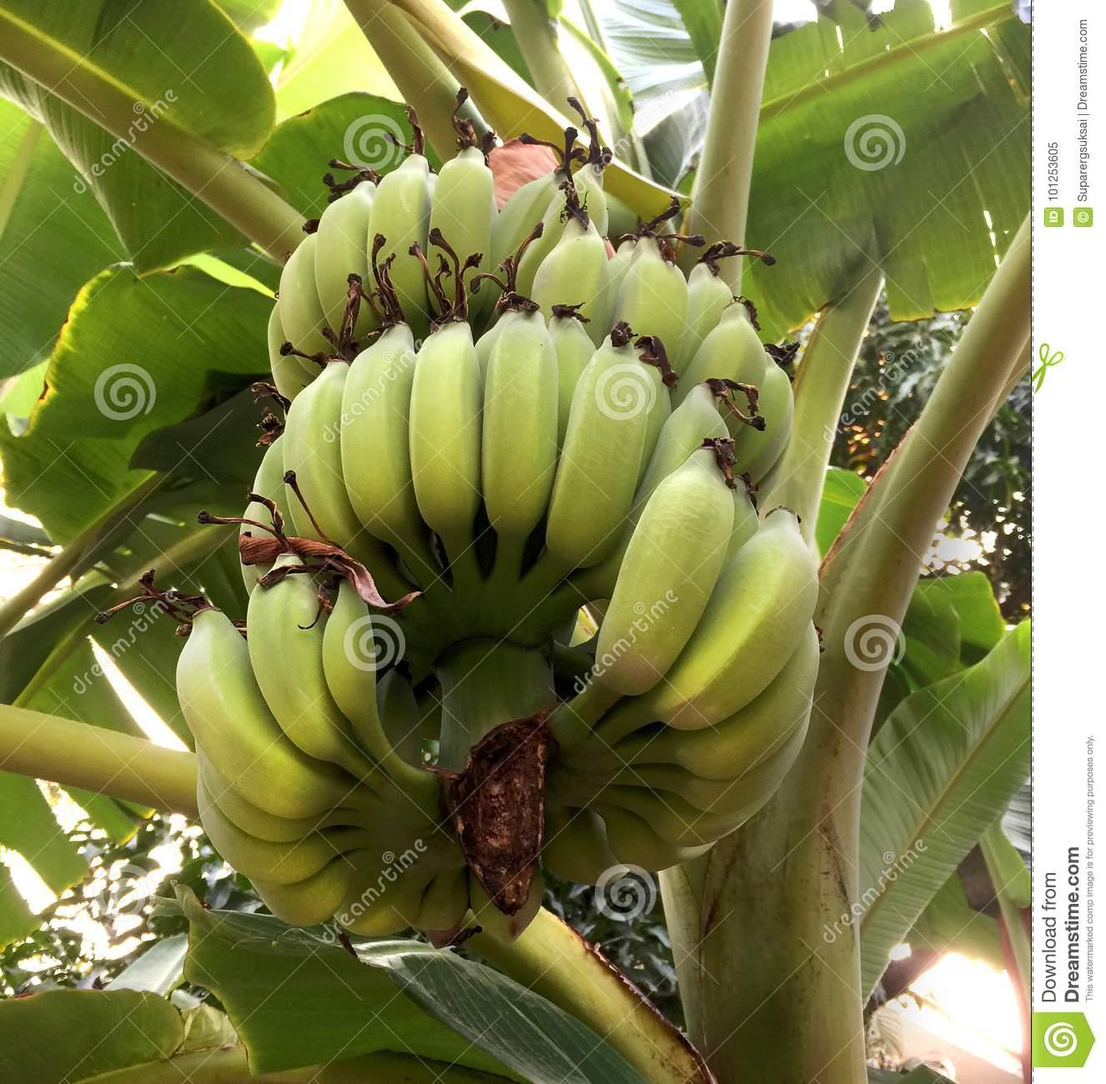Banana Unripe: (183, 81, 851, 998)
